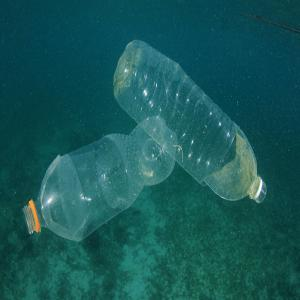Plastic-bottle: (114, 40, 270, 206), (23, 117, 179, 244)
